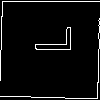L: (25, 24, 72, 54)
